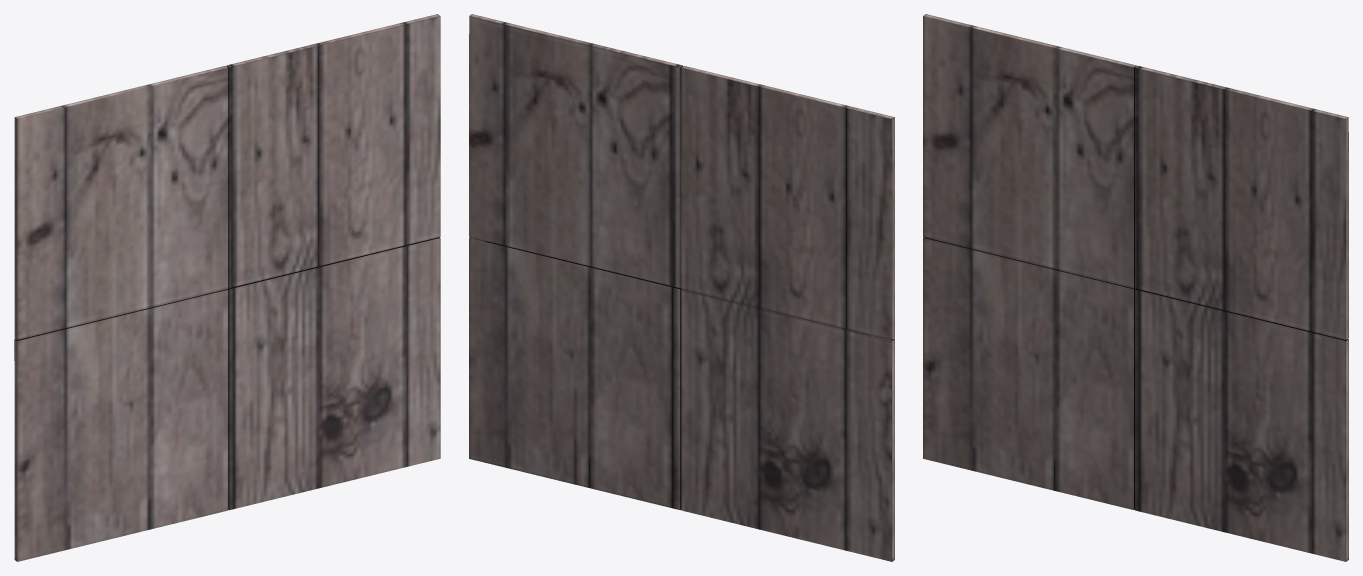
3 views of the same model, side by side, from view 1: azimuth 30°, elevation 25°; view 2: azimuth 150°, elevation 25°; view 3: azimuth 330°, elevation 25° (orthographic).
Parts seen in each view (by area): view 1: Object_34; view 2: Object_34; view 3: Object_34.
Boxes of the visible parts, x1,y1,x2,y2 form: Object_34: (14, 14, 440, 561); Object_34: (469, 14, 894, 561); Object_34: (923, 14, 1348, 561).
Bounding box in the file's own units: 1.21 × 1.21 × 0.0146.
Materials: 1 (1 with a texture image).
